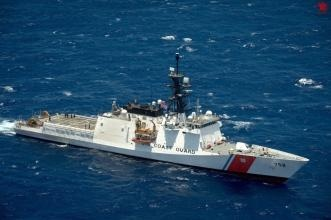warship: (18, 52, 302, 186)
